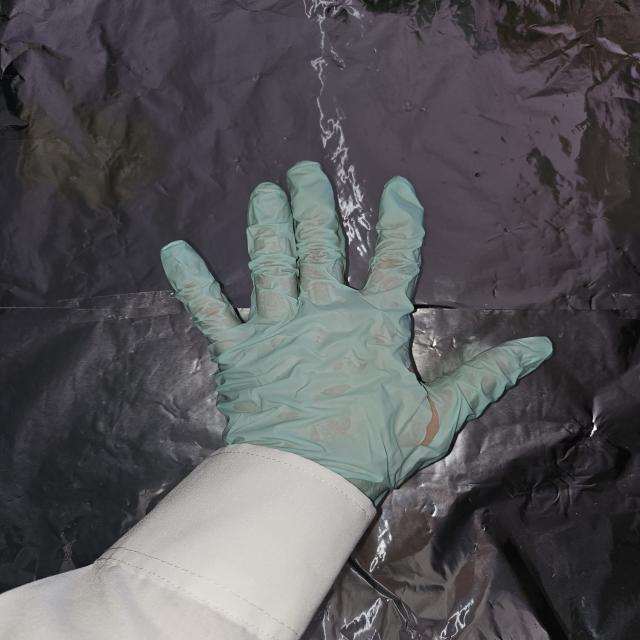gloves_damaged: (161, 160, 557, 509)
